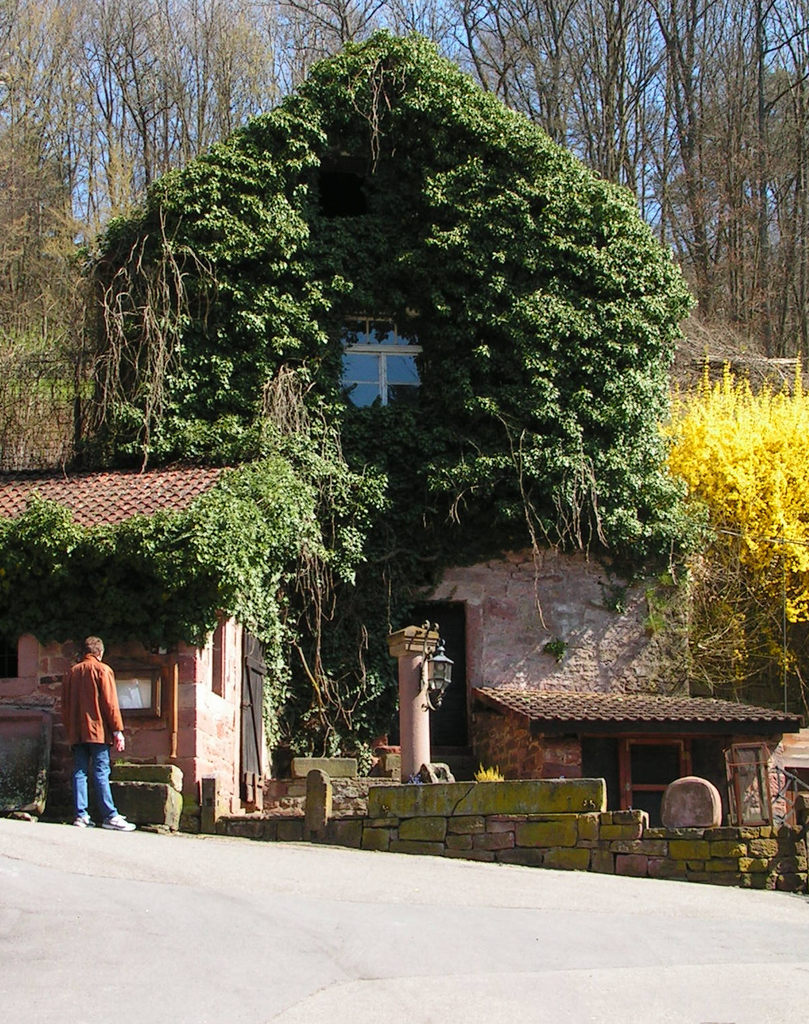Tree: (0, 0, 808, 355), (0, 378, 385, 733), (643, 346, 808, 644)
